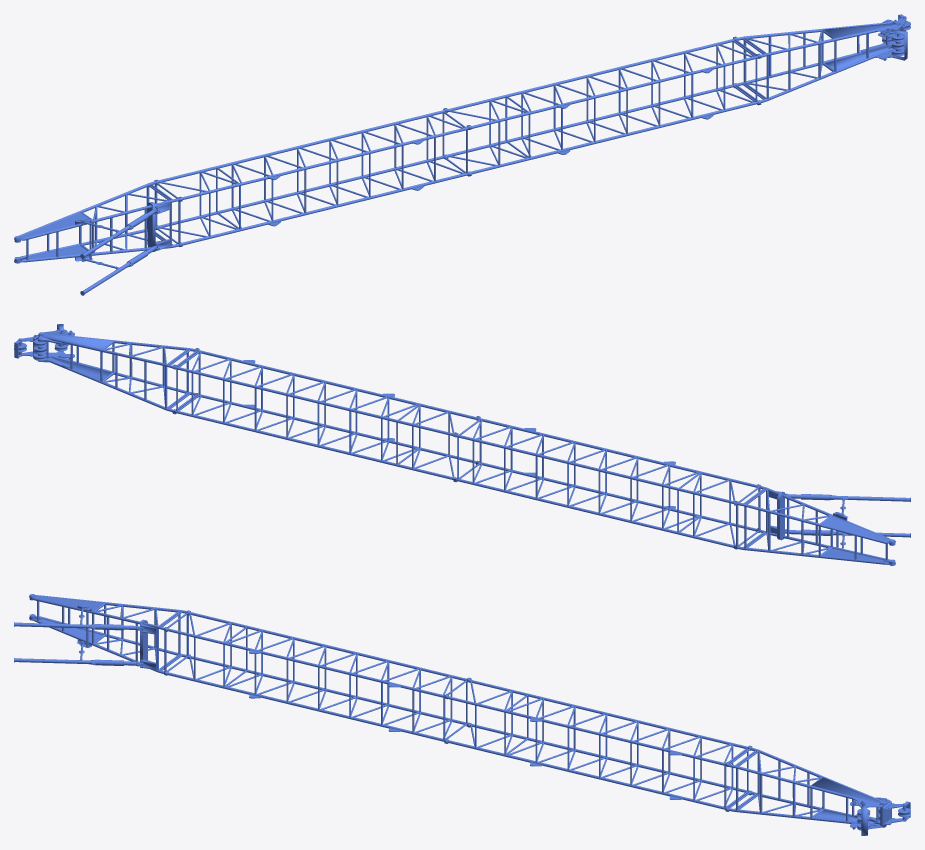
File: boom.glb
3 views of the same model, one above another, from view 1: azimuth 30°, elevation 25°; view 2: azimuth 150°, elevation 25°; view 3: azimuth 330°, elevation 25° (orthographic). The views are drawn at different scales.
Visible parts, largest first — view 1: Object_12; view 2: Object_12; view 3: Object_12.
Part boxes in pixels (x1,y1,x2,y2): Object_12: (14,14,910,295); Object_12: (14,324,910,565); Object_12: (14,594,910,835).
Bounding box in the file's own units: 47.51 × 2.5 × 5.14.
